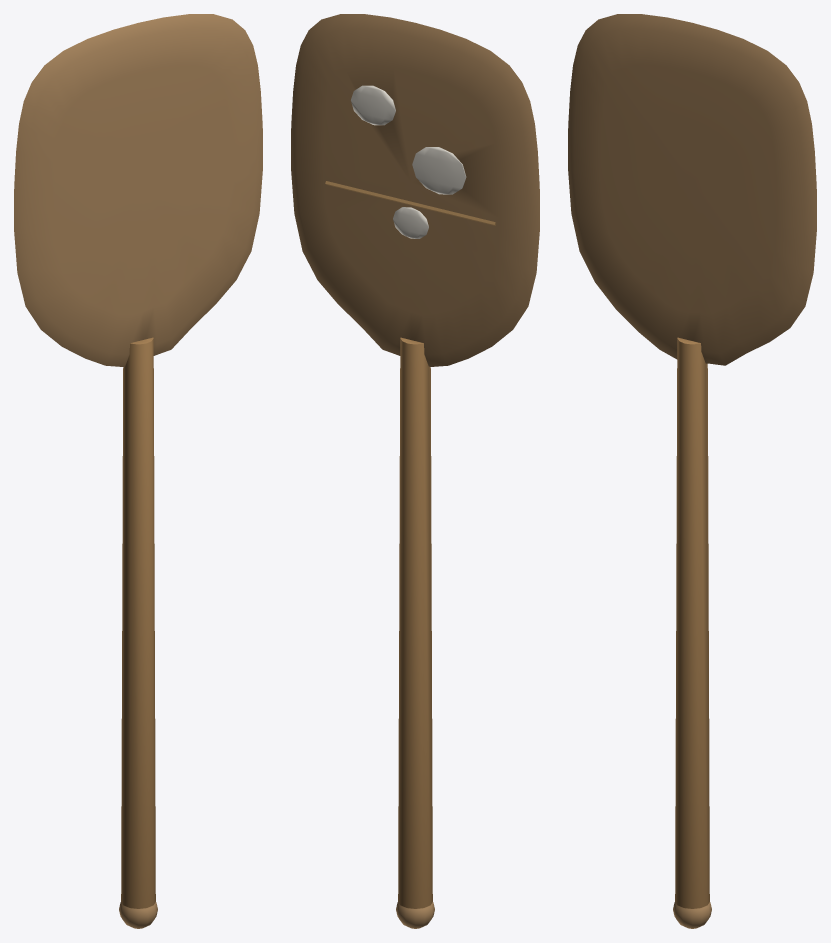
The model's file is cook_peel.glb.
The picture shows the model from 3 angles, left to right: view 1: azimuth 30°, elevation 25°; view 2: azimuth 150°, elevation 25°; view 3: azimuth 330°, elevation 25°; orthographic projection.
Visible parts, largest first — view 1: cook_peel; view 2: cook_peel; view 3: cook_peel.
Part boxes in pixels (x1,y1,x2,y2): cook_peel: (14,14,262,928); cook_peel: (291,14,539,928); cook_peel: (568,14,816,928).
Bounding box in the file's own units: 0.2644 × 0.918 × 0.036.
